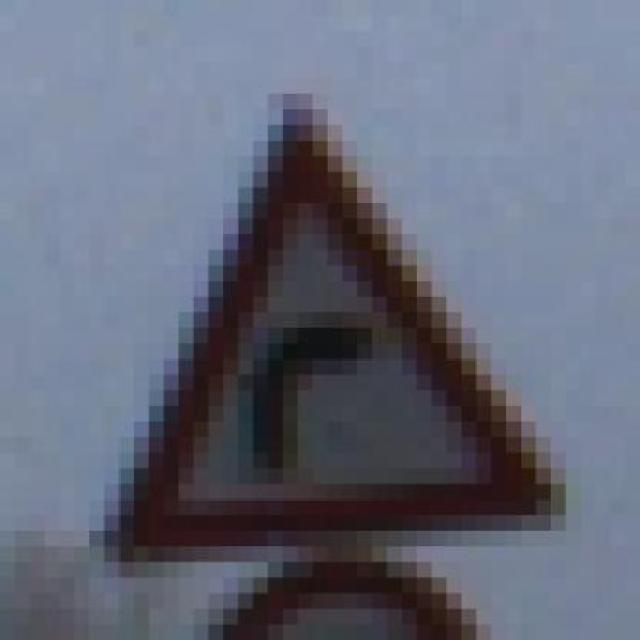Dangerous Rright Curve Ahead: (74, 93, 566, 562)
